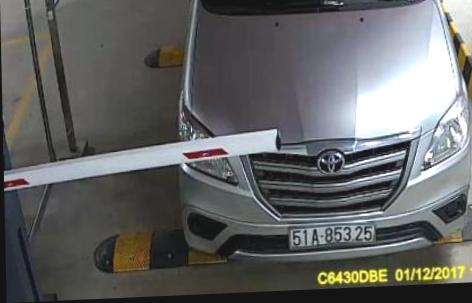License_Plate: (285, 219, 376, 253)
